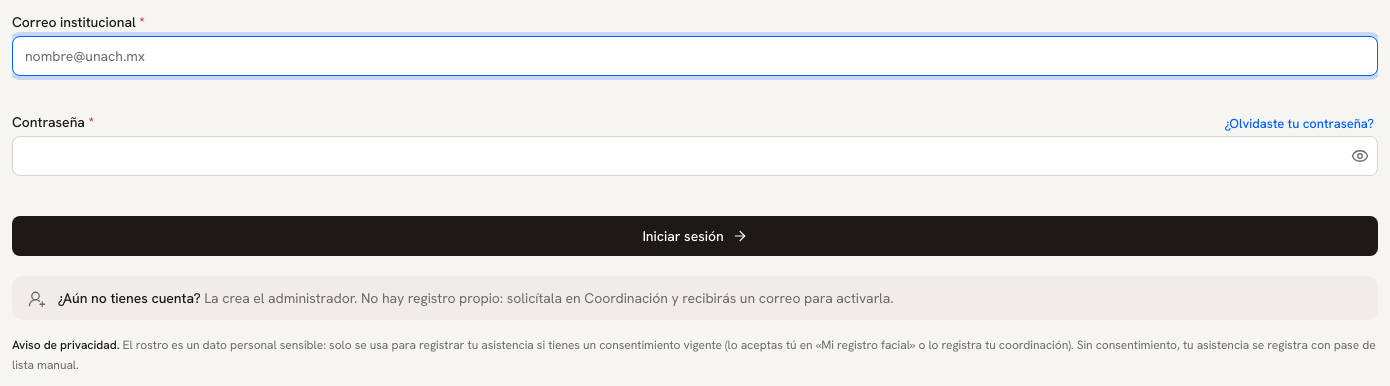
Scenario: validación guiada › avisa del correo al salir del campo, con un mensaje concreto, y lo quita al corregirlo
In the field labelled "Correo institucional *": [695, 56] box [12,36,1378,76], type "sin-arroba"
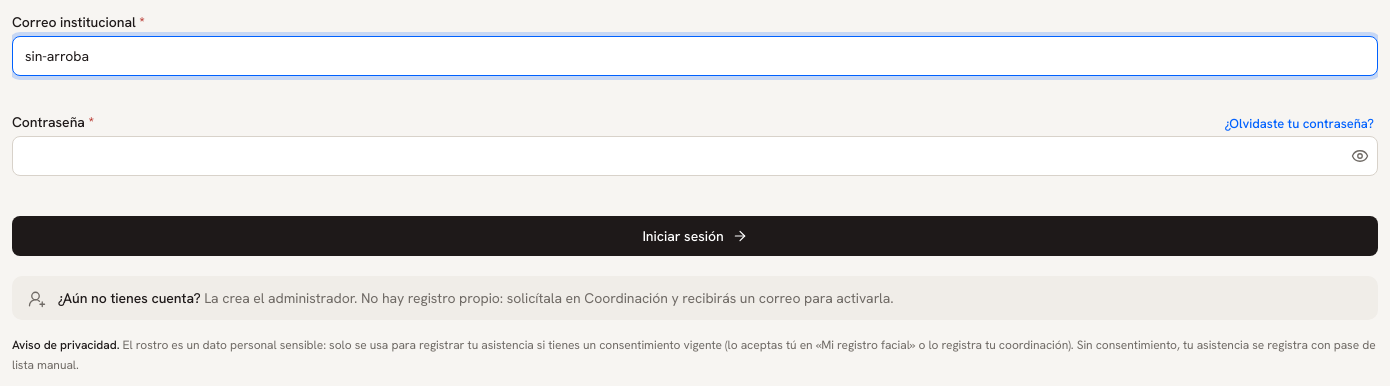
Expected: the text "le falta la @" is not shown
Press Tab
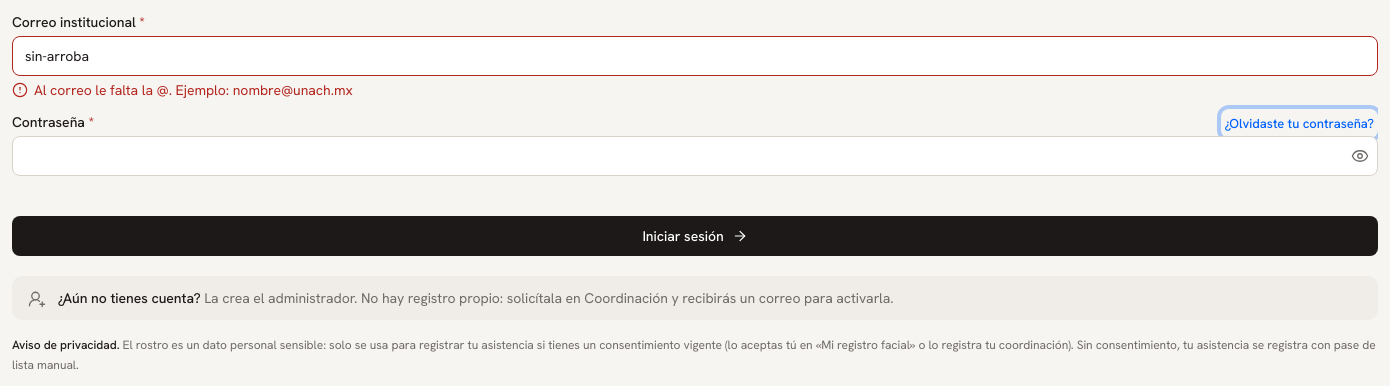
Expected: the text "Al correo le falta la @. Ejemplo: nombre@unach.mx" is shown, [12,81,353,99]
In the field labelled "Correo institucional *": [695, 56] box [12,36,1378,76], type "@unach.mx"
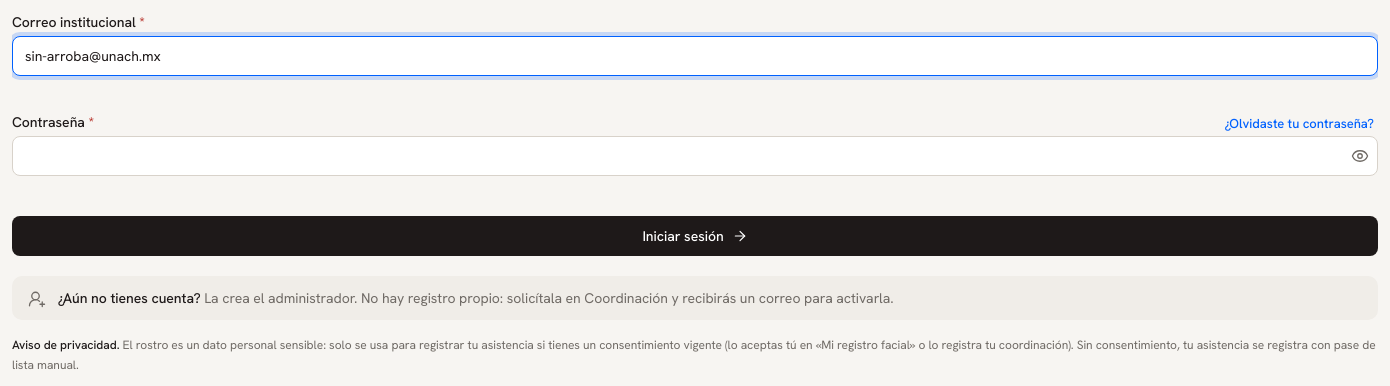
Expected: the text "le falta la @" is gone
